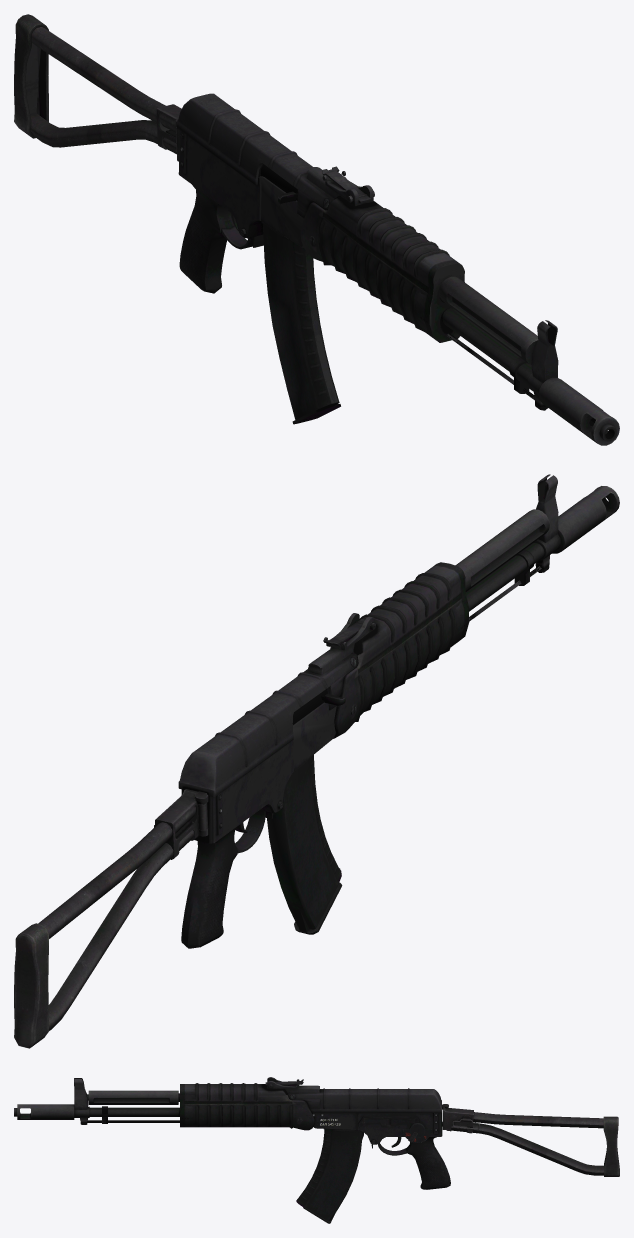
Rendered from AEK.fbx.
The picture shows the model from 3 angles, top to bottom: view 1: azimuth 30°, elevation 25°; view 2: azimuth 150°, elevation 25°; view 3: azimuth 270°, elevation 25°; orthographic projection. The views are drawn at different scales.
Parts seen in each view (by area): view 1: Mesh_0006, mag, bolt; view 2: Mesh_0006, mag; view 3: Mesh_0006, mag.
Part boxes in pixels (x1,y1,x2,y2): Mesh_0006: (14,14,619,445); mag: (261,222,340,424); bolt: (260,164,297,204); Mesh_0006: (14,474,619,1048); mag: (267,755,342,934); Mesh_0006: (14,1077,619,1189); mag: (296,1129,363,1223).
Size of the model in its own units: 5.79 by 27.54 by 105.
Materials: 1 (1 with a texture image).
